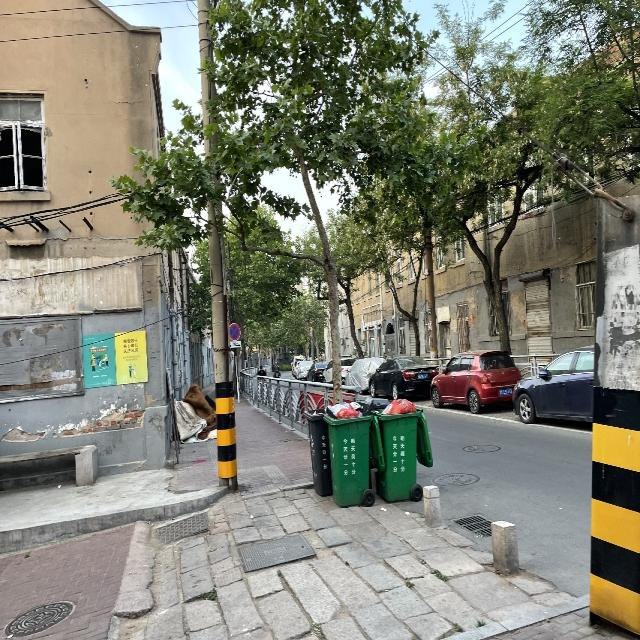garbage_bin: (303, 408, 332, 497)
overflow: (323, 400, 384, 511), (376, 397, 431, 501)
